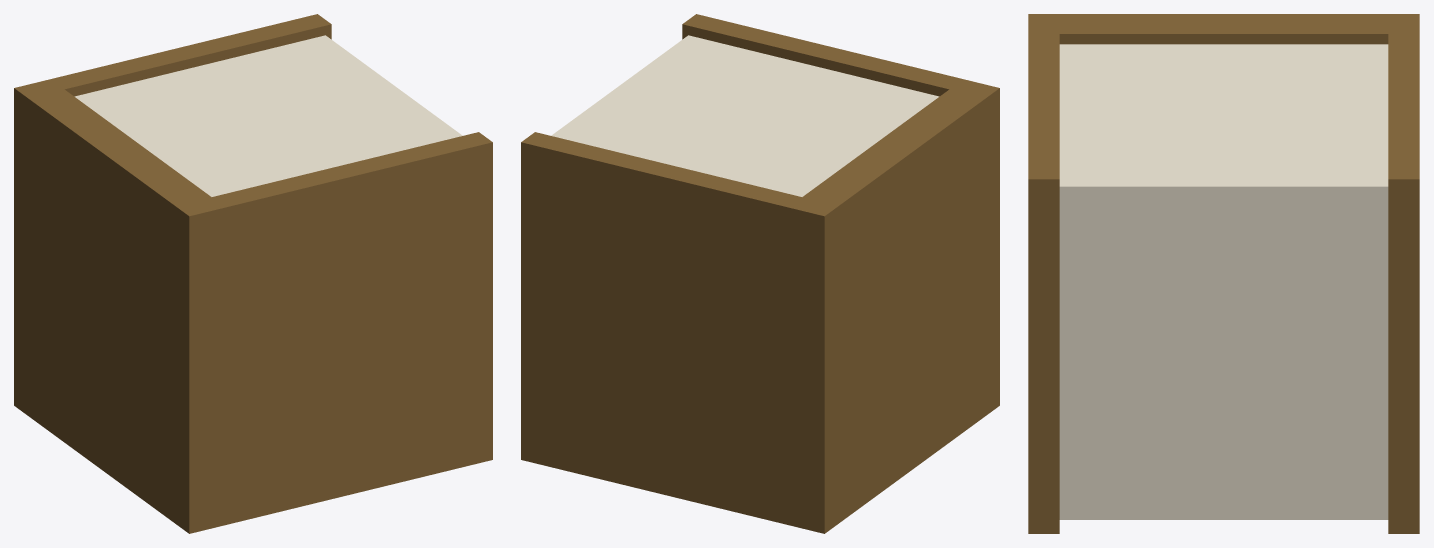
File: book-6.glb
3 views of the same model, side by side, from view 1: azimuth 30°, elevation 25°; view 2: azimuth 150°, elevation 25°; view 3: azimuth 270°, elevation 25° (orthographic). The views are drawn at different scales.
Bounding box in the file's own units: 1 × 1 × 1.
